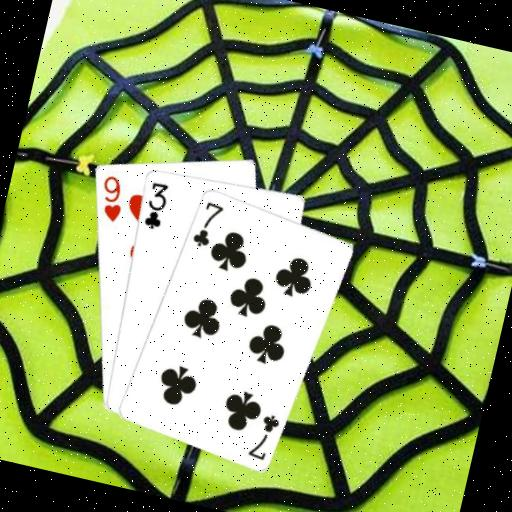3C: (139, 178, 172, 232)
7C: (245, 408, 283, 464), (188, 196, 226, 251)
9H: (92, 171, 130, 226)
